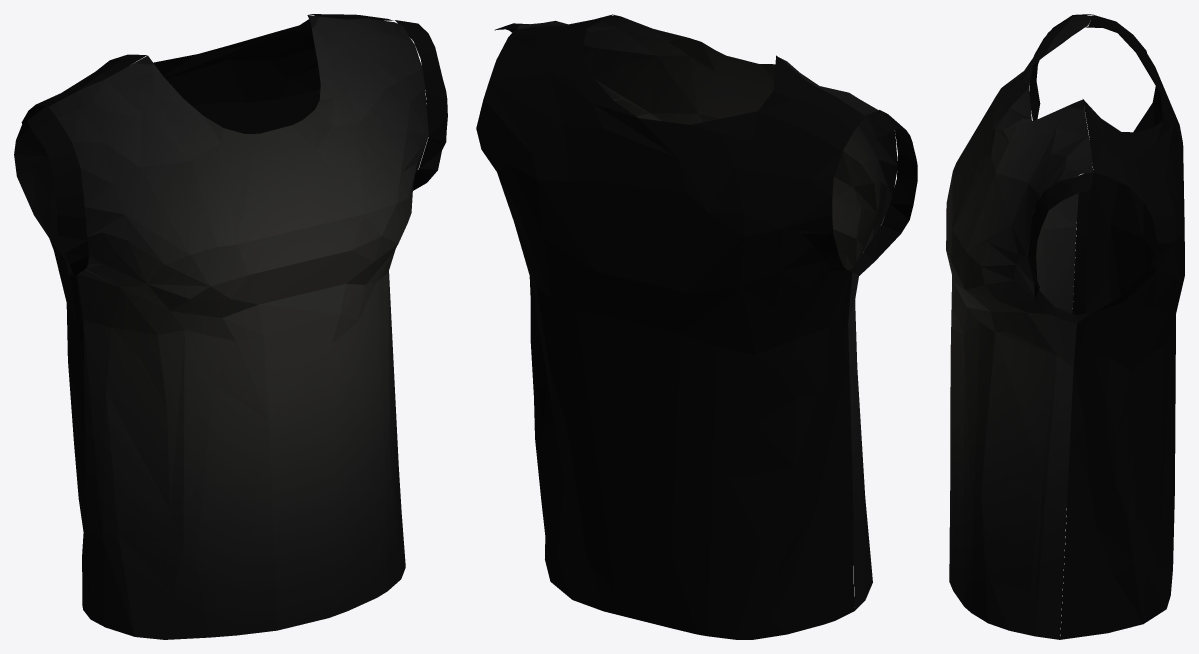
3 views of the same model, side by side, from view 1: azimuth 30°, elevation 25°; view 2: azimuth 150°, elevation 25°; view 3: azimuth 270°, elevation 25° (orthographic). The views are drawn at different scales.
Visible parts, largest first — view 1: T_shirt; view 2: T_shirt; view 3: T_shirt.
Part boxes in pixels (left/top/right/bottom): T_shirt: left=14, top=14, right=447, bottom=639; T_shirt: left=476, top=14, right=917, bottom=639; T_shirt: left=946, top=14, right=1184, bottom=639.
Bounding box in the file's own units: 0.2935 × 0.3892 × 0.1639.
Materials: 2 (1 with a texture image).
